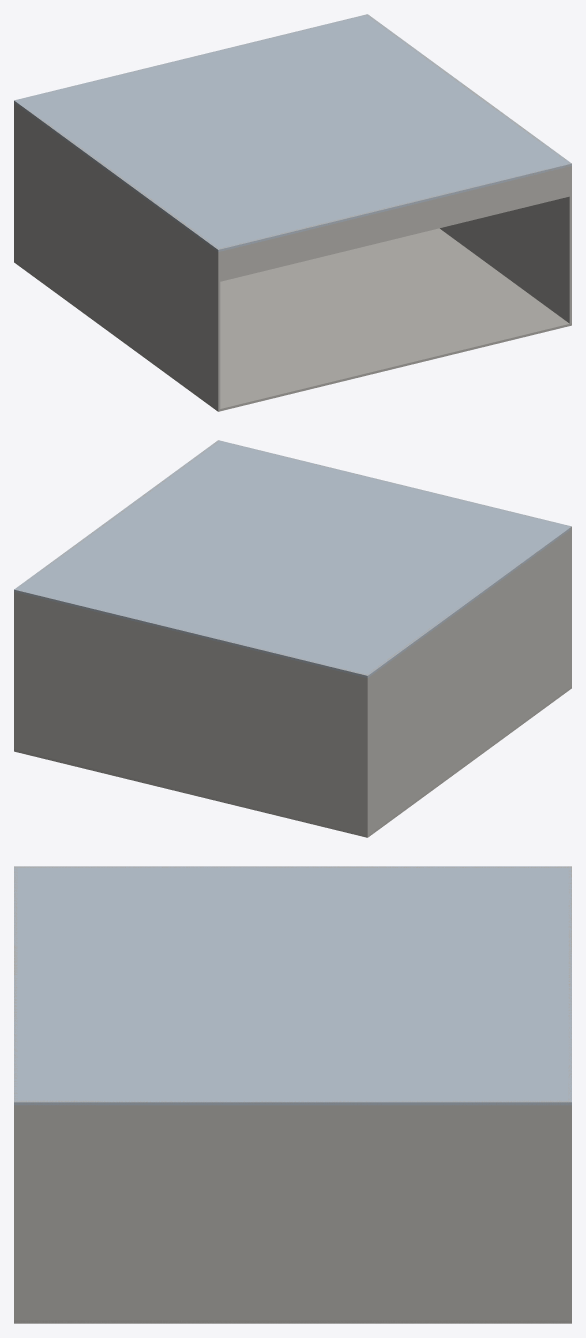
The model's file is pavilion_outdoor_001.glb.
3 renders of one model, top to bottom at view 1: azimuth 30°, elevation 25°; view 2: azimuth 150°, elevation 25°; view 3: azimuth 270°, elevation 25°, orthographic. The views are drawn at different scales.
Visible parts, largest first — view 1: ceiling, floor, left_wall, front_top, right_wall; view 2: ceiling, back_wall, left_wall, floor; view 3: ceiling, right_wall, floor, back_wall, left_wall, front_top.
Part boxes in pixels (left/top/right/bottom): ceiling: left=14, top=14, right=571, bottom=252; floor: left=14, top=228, right=571, bottom=411; left_wall: left=14, top=104, right=220, bottom=411; front_top: left=217, top=163, right=571, bottom=281; right_wall: left=366, top=14, right=571, bottom=323; ceiling: left=14, top=440, right=571, bottom=677; back_wall: left=14, top=590, right=368, bottom=837; left_wall: left=365, top=528, right=571, bottom=835; floor: left=14, top=687, right=571, bottom=837; ceiling: left=14, top=866, right=571, bottom=1105; right_wall: left=14, top=1100, right=571, bottom=1323; floor: left=14, top=1320, right=571, bottom=1323; back_wall: left=568, top=866, right=571, bottom=1322; left_wall: left=14, top=866, right=571, bottom=867; front_top: left=14, top=866, right=17, bottom=1146.
Bounding box in the file's own units: 8 × 3.5 × 8.
